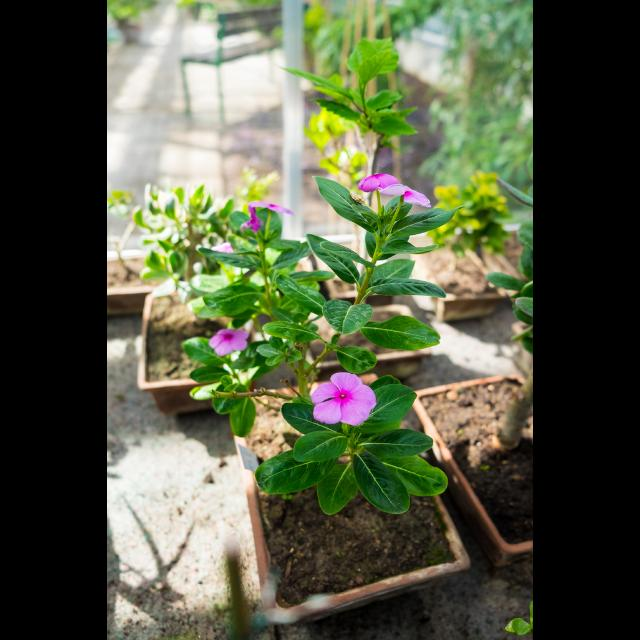Flower: (313, 371, 377, 433), (378, 182, 434, 210), (209, 324, 249, 358), (247, 198, 296, 216), (358, 172, 400, 192), (239, 206, 263, 232), (212, 240, 232, 253)
